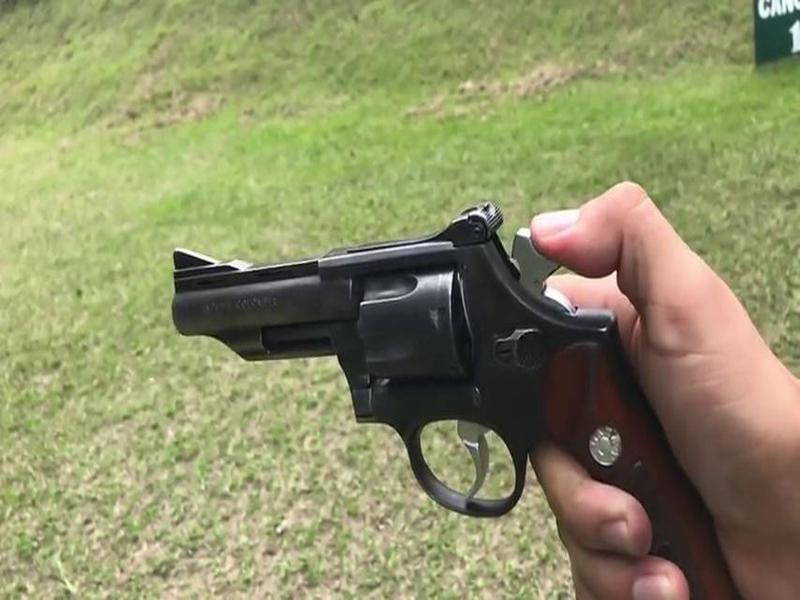Revolver: (144, 167, 761, 577)
